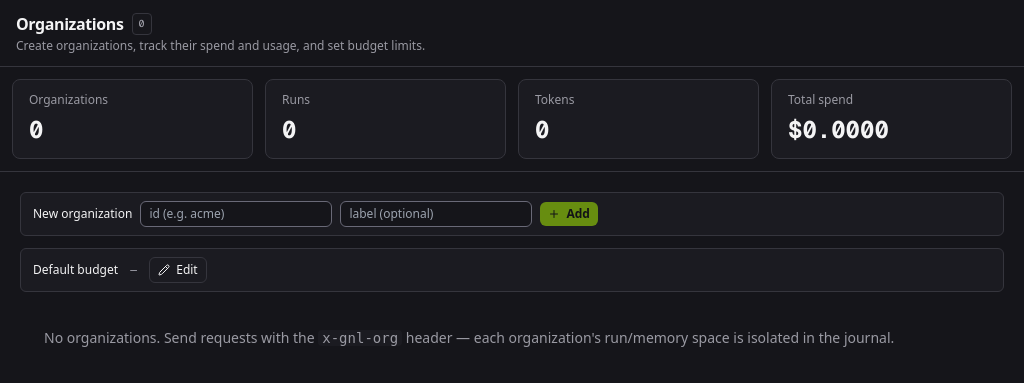
Organizations field-level validation (FORM-09) › invalid org id: inline error + aria-invalid on the id input, NO toast
This screenshot has width=1024, height=383.
expect the text "New organization" is shown: met, box [33,206,132,222]
Type "Acme Corp" into the field with placeholder "id (e.g. acme)".
click(236, 214); type("Acme Corp")  # box [140,201,332,227]
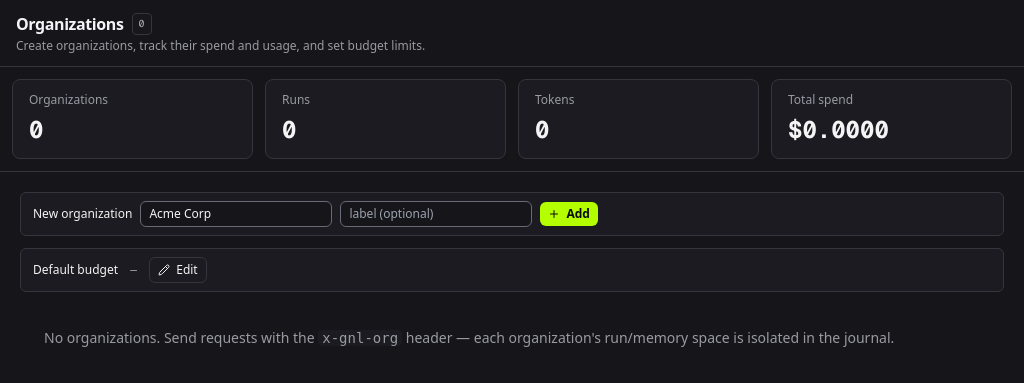
Click the button "Add".
click(569, 214)  # box [540,202,598,226]
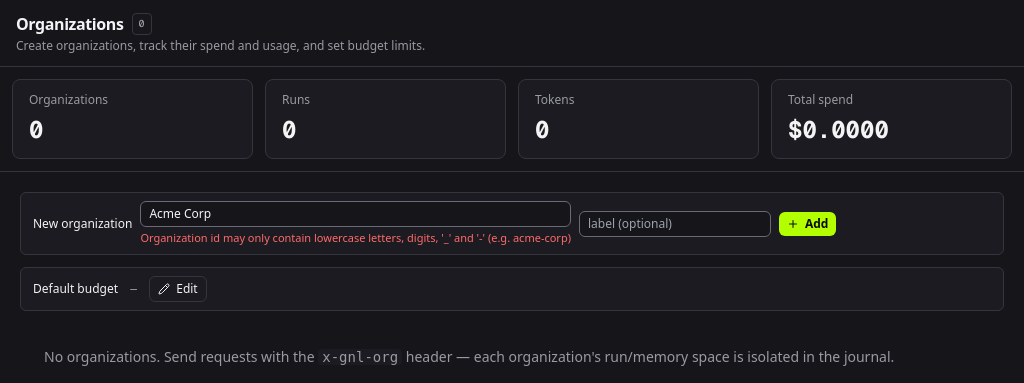
expect the text "may only contain lowercase letters" is shown: met, box [140,230,571,245]
// Fixing the value clears the inline error right away.
Replace the text in the field with placeholder "id (e.g. acme)" with "acme-corp" at (356, 214), box [140,201,571,227]
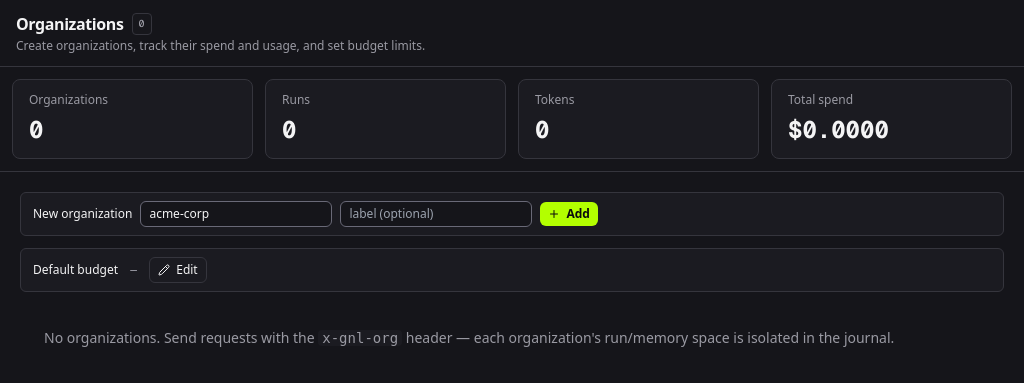
expect the text "may only contain lowercase letters" is gone: met
